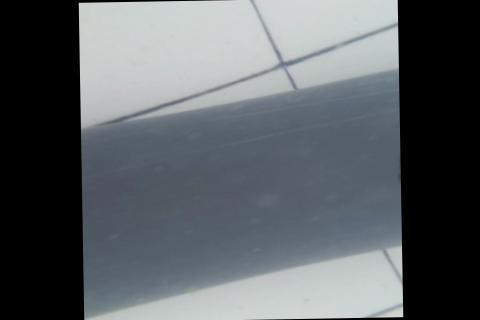kebocoran: (394, 149, 400, 190)
